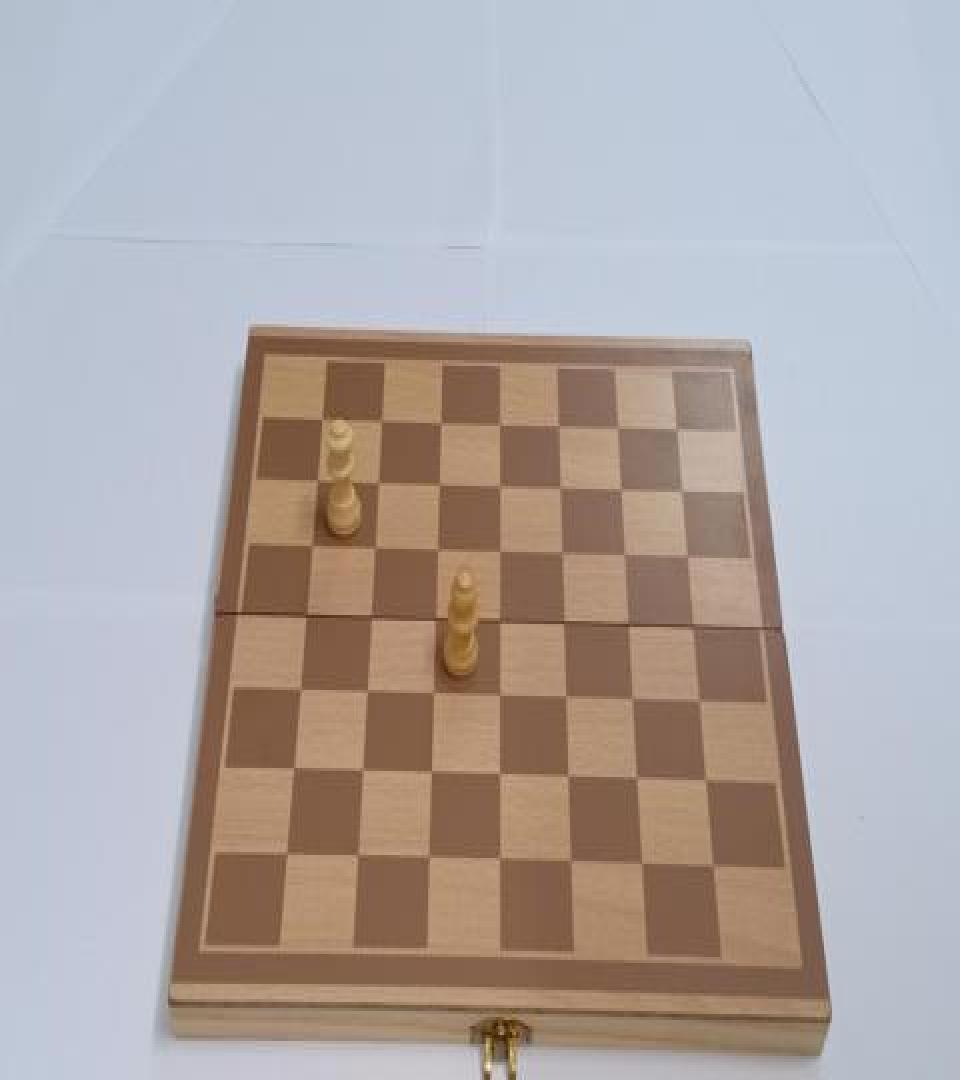xcorner: (356, 760, 374, 788), (552, 478, 570, 506), (609, 418, 627, 446), (310, 471, 328, 498), (305, 537, 323, 564), (299, 606, 317, 633), (287, 759, 305, 786), (280, 843, 298, 870), (374, 411, 392, 438), (371, 474, 389, 501), (367, 538, 385, 565), (360, 683, 378, 710), (351, 844, 369, 871), (433, 414, 451, 441), (430, 540, 448, 567), (428, 610, 446, 637), (426, 684, 444, 711), (492, 415, 510, 442), (492, 477, 510, 504), (492, 543, 510, 570), (492, 612, 510, 639), (493, 765, 511, 792), (493, 849, 511, 876), (550, 417, 568, 444), (554, 545, 572, 572), (559, 689, 577, 716), (562, 766, 580, 793), (564, 852, 582, 879), (613, 481, 631, 508), (617, 546, 635, 573), (621, 617, 639, 644), (625, 690, 643, 717), (673, 483, 691, 510), (685, 618, 703, 645), (699, 771, 717, 798), (706, 855, 724, 882), (315, 410, 333, 436), (293, 680, 311, 706), (364, 608, 382, 634), (431, 476, 449, 502), (424, 764, 442, 790), (422, 848, 440, 874), (493, 686, 511, 712), (557, 614, 575, 640), (630, 770, 648, 796), (635, 854, 653, 880), (668, 422, 686, 448), (679, 548, 697, 574), (692, 692, 710, 718)
